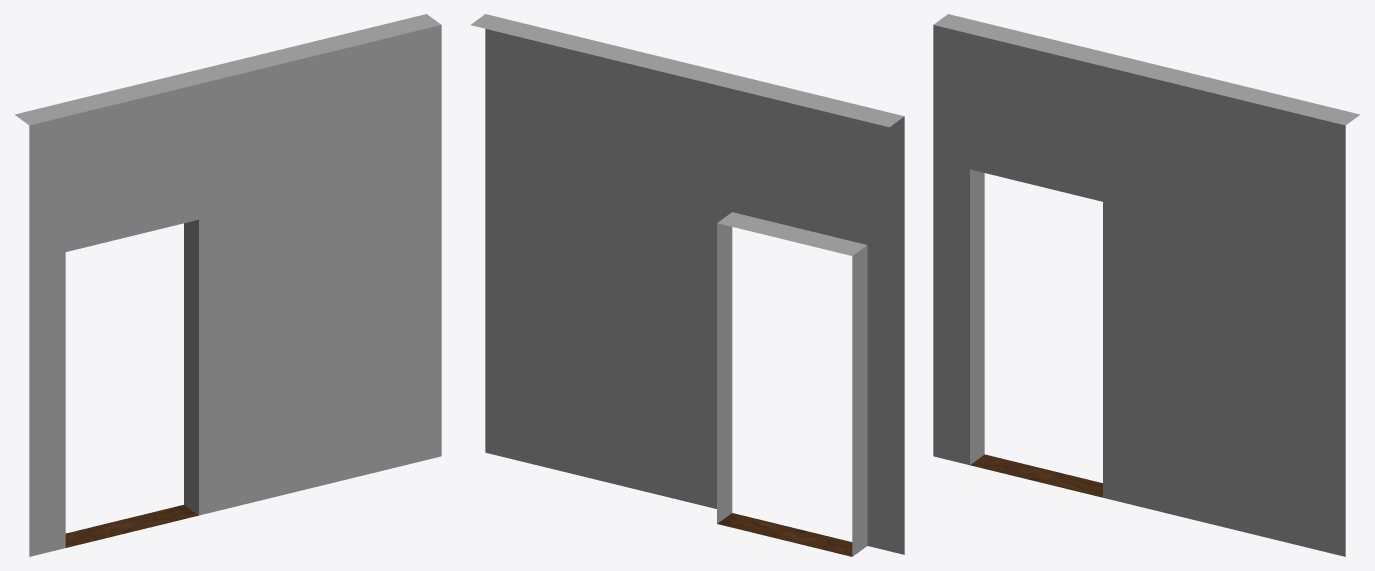
The model's file is Int_House_CwlSp_Entrance_03.fbx.
The picture shows the model from 3 angles, left to right: view 1: azimuth 30°, elevation 25°; view 2: azimuth 150°, elevation 25°; view 3: azimuth 330°, elevation 25°; orthographic projection.
Visible parts, largest first — view 1: Int_House_CwlSp_Entrance_03; view 2: Int_House_CwlSp_Entrance_03; view 3: Int_House_CwlSp_Entrance_03.
Part boxes in pixels (box(x1,y1,x2,y2)): Int_House_CwlSp_Entrance_03: box(15, 14, 441, 556); Int_House_CwlSp_Entrance_03: box(471, 14, 904, 556); Int_House_CwlSp_Entrance_03: box(933, 14, 1359, 556).
Size of the model in its own units: 400 by 400 by 25.
Materials: 2 (1 with a texture image).
